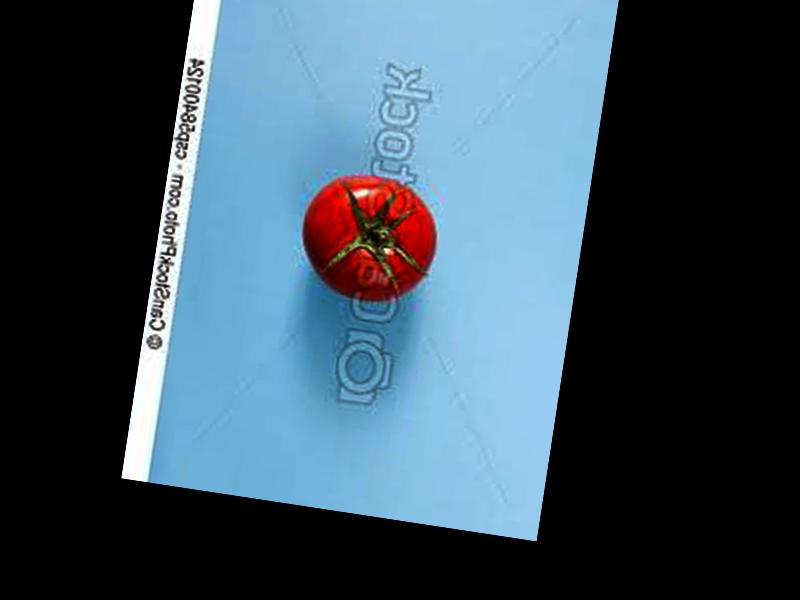Tomato: (291, 167, 443, 306)
